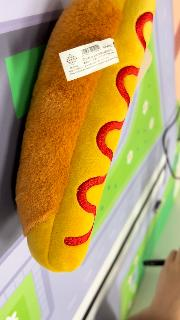hotdog: (15, 0, 157, 274)
